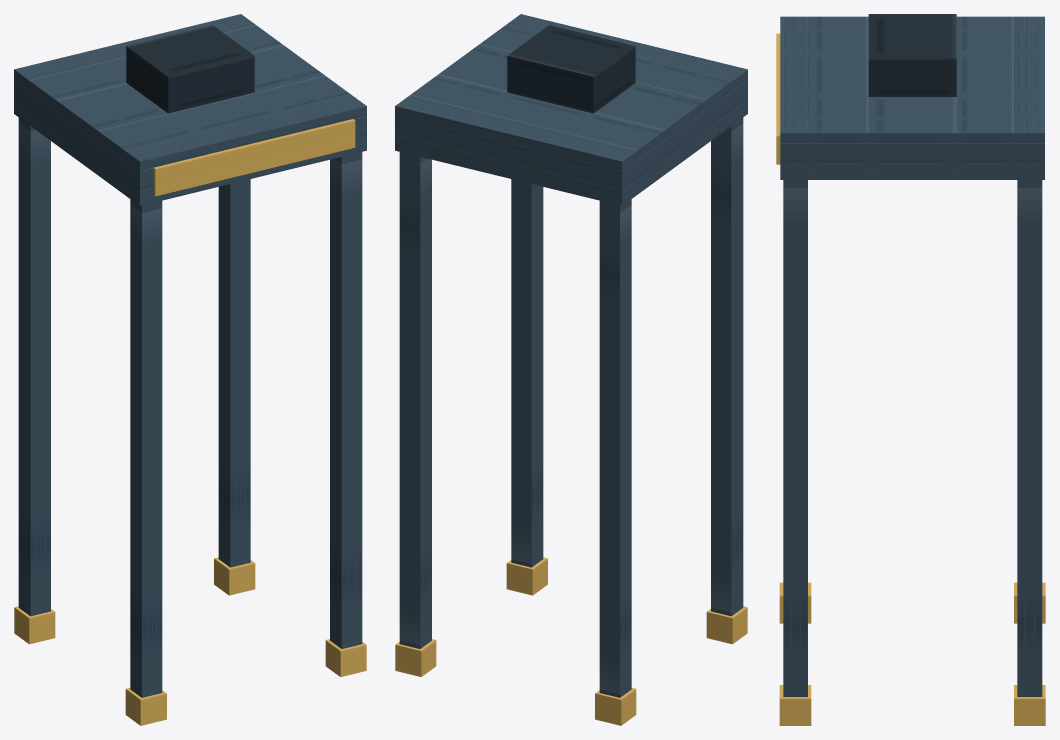
Rendered from sc_press_frame.obj.
The picture shows the model from 3 angles, left to right: view 1: azimuth 30°, elevation 25°; view 2: azimuth 150°, elevation 25°; view 3: azimuth 270°, elevation 25°; orthographic projection. The views are drawn at different scales.
Size of the model in its own units: 20 by 50.6 by 19.55.
Materials: 1 (1 with a texture image).
